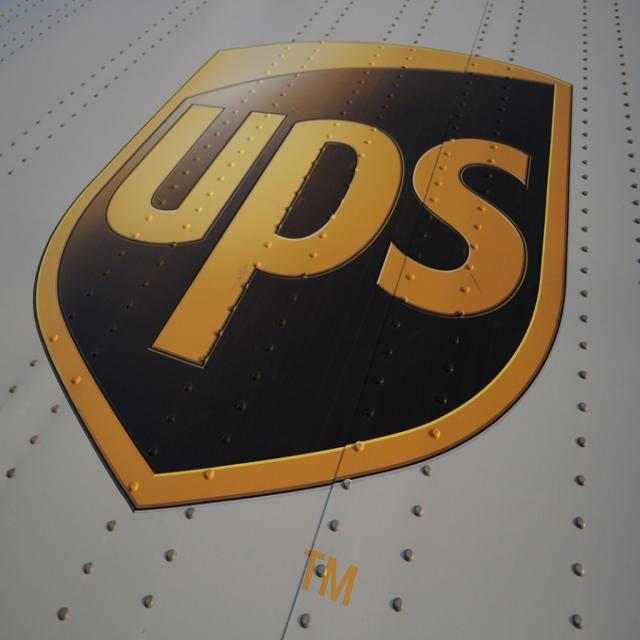ups: (36, 39, 574, 510)
